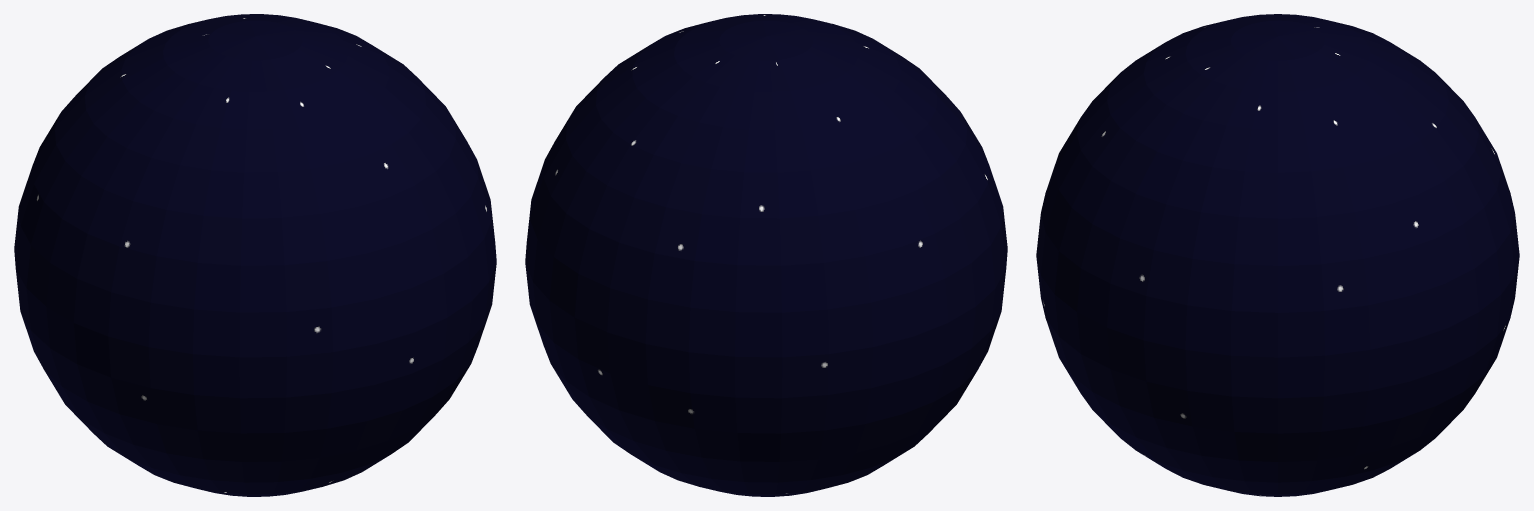
Rendered from sssssk.obj.
The picture shows the model from 3 angles, left to right: view 1: azimuth 30°, elevation 25°; view 2: azimuth 150°, elevation 25°; view 3: azimuth 270°, elevation 25°; orthographic projection.
Visible parts, largest first — view 1: 球; view 2: 球; view 3: 球.
Part boxes in pixels (left/top/right/bottom): 球: left=14, top=14, right=496, bottom=496; 球: left=525, top=14, right=1007, bottom=496; 球: left=1036, top=14, right=1519, bottom=496.
Size of the model in its own units: 2 by 2 by 2.
